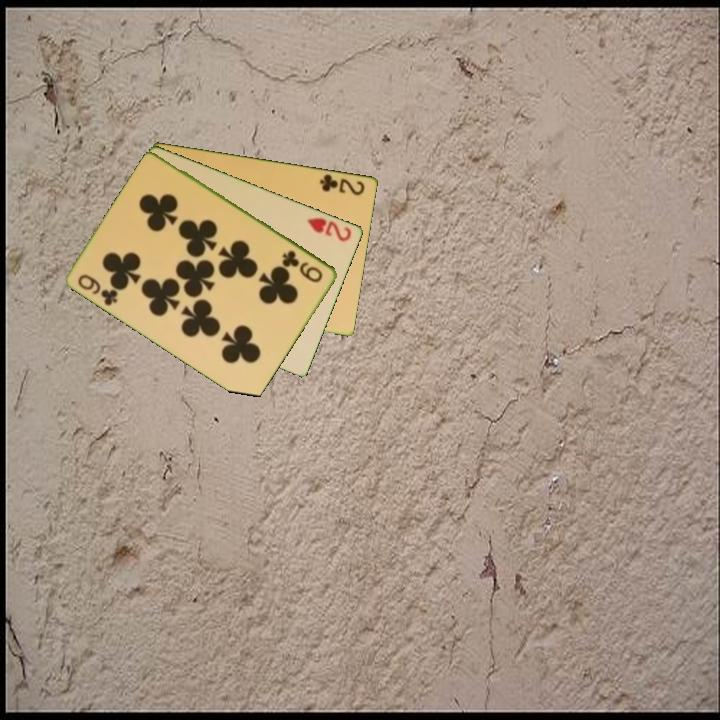2c: (317, 170, 368, 198)
2h: (304, 214, 355, 244)
9c: (279, 247, 326, 285), (74, 271, 121, 309)
